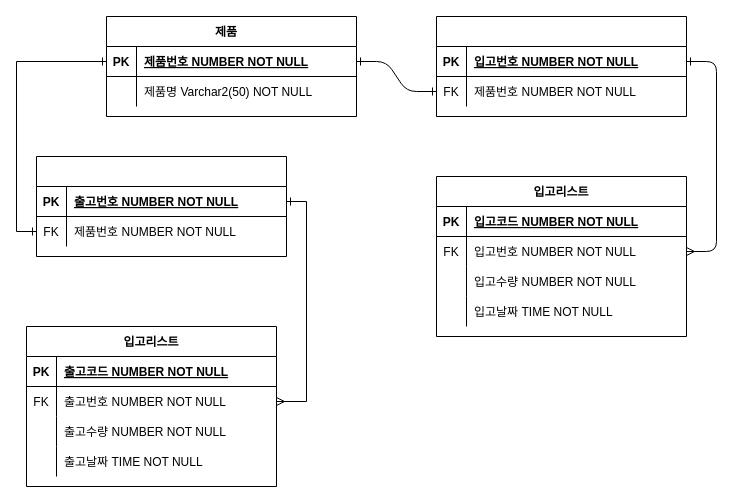
The diagram is 733 pixels wide and 503 high, and some of its shapes have lost their labels. The box of each missing label's shape, as (x1, y1, x2, y2) in pixels:
입고: (436, 16, 686, 116)
출고: (36, 156, 286, 256)
